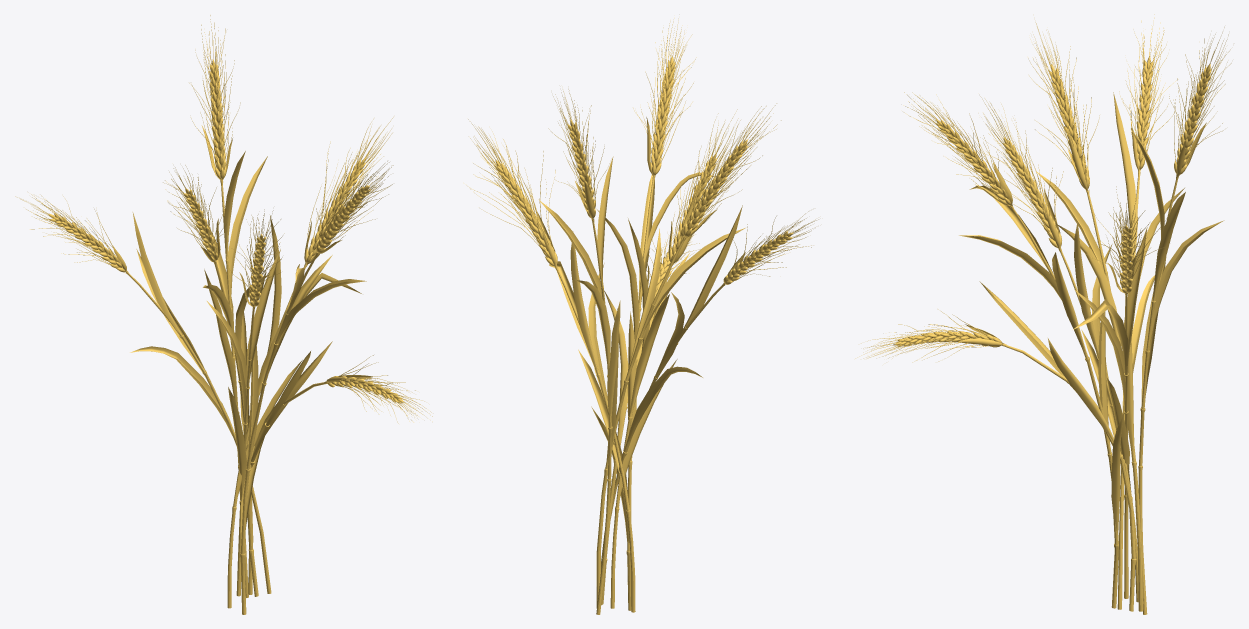
The model's file is ABWheat.fbx.
3 renders of one model, left to right at view 1: azimuth 30°, elevation 25°; view 2: azimuth 150°, elevation 25°; view 3: azimuth 270°, elevation 25°, orthographic. The views are drawn at different scales.
Parts seen in each view (by area): view 1: Z64-1017_3dkk_0108.001; view 2: Z64-1017_3dkk_0108.001; view 3: Z64-1017_3dkk_0108.001.
Boxes of the visible parts, left/top/right/bottom form: Z64-1017_3dkk_0108.001: left=15, top=15, right=432, bottom=614; Z64-1017_3dkk_0108.001: left=468, top=18, right=818, bottom=614; Z64-1017_3dkk_0108.001: left=855, top=14, right=1231, bottom=614.
Size of the model in its own units: 3862 by 5603 by 3290.
